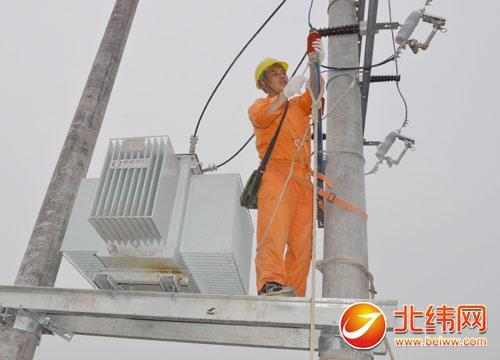helmet: (253, 52, 292, 99)
